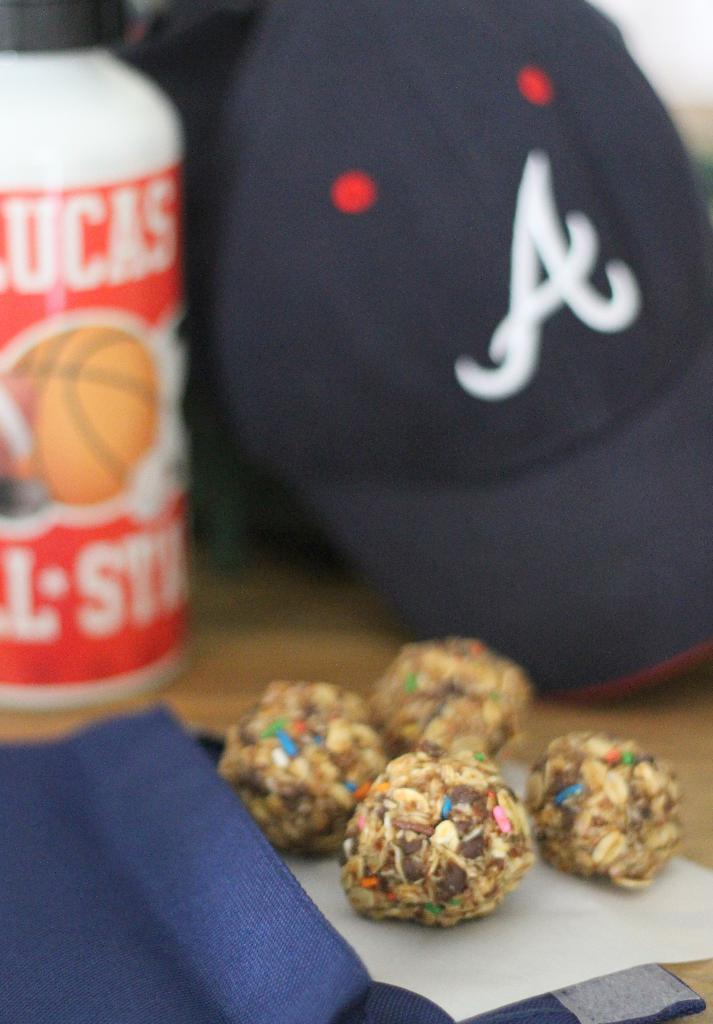Hat: (187, 0, 712, 693)
